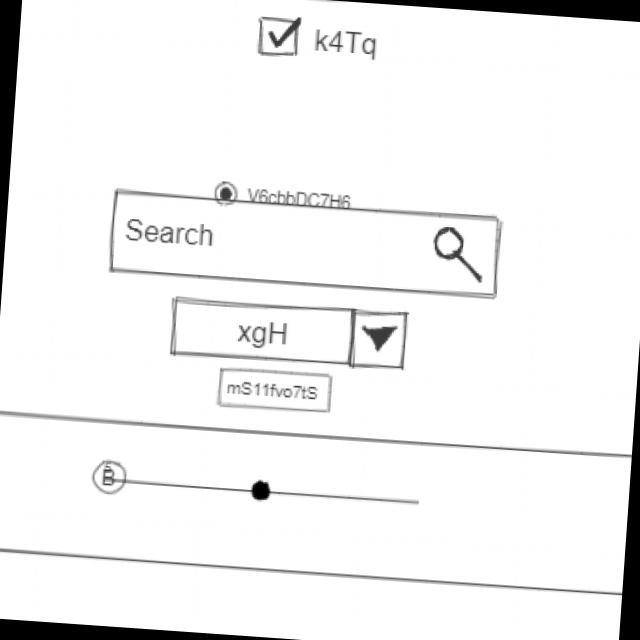button: (212, 362, 332, 416)
checkbox: (253, 11, 385, 68)
container: (0, 403, 631, 602)
icon-button: (89, 454, 130, 498)
radio: (211, 177, 355, 216)
search: (103, 187, 507, 303)
select: (165, 290, 412, 376)
slider: (106, 466, 424, 515)
